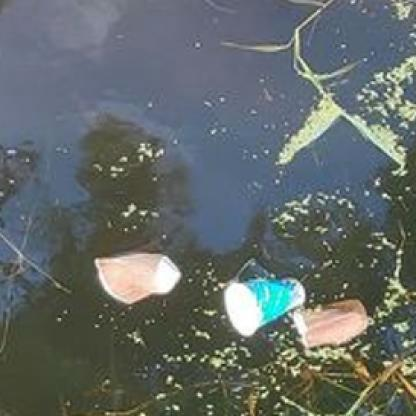Plastic: (222, 277, 306, 338), (93, 251, 182, 305), (295, 297, 369, 351)
